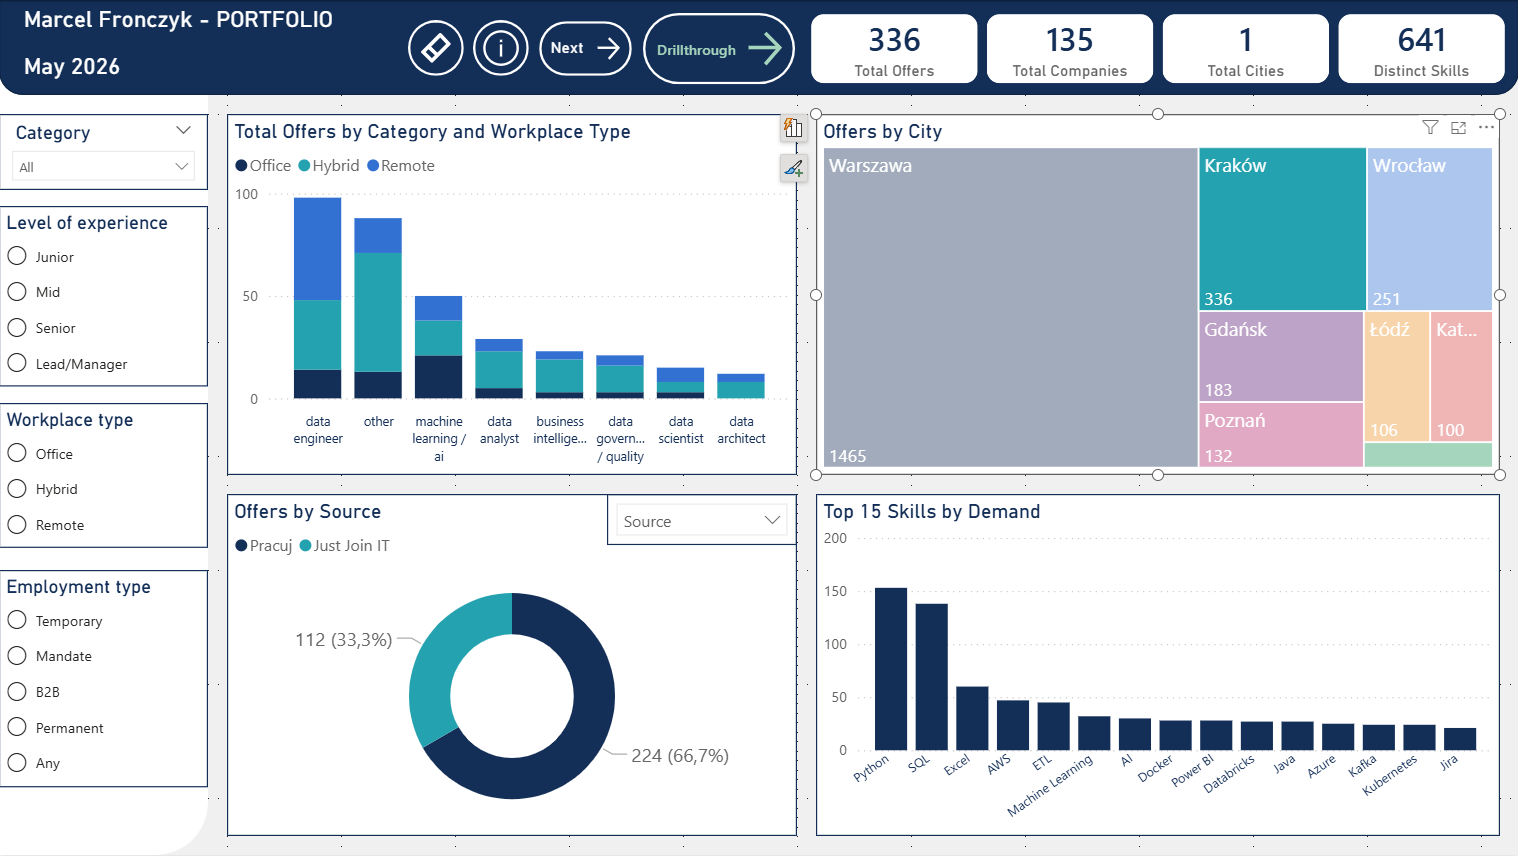

The dashboard page shown, as its layout file describes it:
{"tool":"powerbi","page":{"name":"Offers","canvas":[1280,720],"ordinal":0},"visuals":[{"type":"shape","title":"Slicer Tab","box":[0,0,176,720],"z":0},{"type":"shape","title":"Header","box":[0,0,1280,80],"z":1000},{"type":"textbox","box":[16,0,320,96],"z":2000},{"type":"columnChart","title":"Total Offers by Category and Workplace Type","fields":{"Y":["Offers.Offers Total"],"Category":["Offers.category"],"Series":["Offers.workplace_type"]},"box":[192,96,480,304],"z":3000},{"type":"donutChart","fields":{"Category":["Offers.Source"],"Y":["Offers.Offers Total"]},"box":[192,416,480,288],"z":4000},{"type":"columnChart","title":"Top 15 Skills by Demand","fields":{"Y":["OfferSkills.Skill demand"],"Category":["OfferSkills.skills"]},"box":[688,416,576,288],"z":5000},{"type":"listSlicer","title":"Level of experience","fields":{"Values":["Offers.experience_level"]},"box":[0,173.7,176,152],"z":6000},{"type":"listSlicer","title":"Workplace type","fields":{"Values":["Offers.workplace_type"]},"box":[0,339.3,176,122],"z":7000},{"type":"treemap","title":"Offers by City","fields":{"Group":["Offers.city"],"Values":["Offers.Offers Total"]},"box":[688,96,576,304],"z":8000},{"type":"slicer","title":"Category Slicer","fields":{"Values":["Offers.category"]},"box":[0,96,176,64],"z":9000},{"type":"listSlicer","title":"Employment type","fields":{"Values":["Offers.employment_type"]},"box":[0,480,176,183],"z":10000},{"type":"cardVisual","title":"KPIs","fields":{"Data":["Offers.Total Offers","Offers.Total Companies","Offers.Total Cities","OfferSkills.Skills Distinct Count"]},"box":[672,0,608,82],"z":11000},{"type":"slicer","fields":{"Values":["_donut Dimension._donut Dimension"]},"box":[512,416,160,43],"z":12000},{"type":"actionButton","title":"Reset Slicers","box":[344,17,47,47],"z":13000},{"type":"actionButton","title":"Drillthrough Button","box":[542,11,128,60],"z":14000},{"type":"actionButton","title":"Next Page","box":[454,17,80,48],"z":15000},{"type":"actionButton","title":"Expand Explanation","box":[399,17,47,47],"z":17000}]}

Visuals, with their boxes in screenshot pixels (x1, y1, x2, y2), scaled from the page's 1280x720 canvas onto the 1518x856 screenshot:
"Slicer Tab" shape: region(0, 0, 209, 855)
"Header" shape: region(0, 0, 1517, 95)
textbox: region(19, 0, 398, 114)
"Total Offers by Category and Workplace Type" columnChart: region(228, 114, 797, 476)
donutChart - Offers.Source x Offers.Offers Total: region(228, 495, 797, 837)
"Top 15 Skills by Demand" columnChart: region(816, 495, 1499, 837)
"Level of experience" listSlicer: region(0, 207, 209, 387)
"Workplace type" listSlicer: region(0, 403, 209, 548)
"Offers by City" treemap: region(816, 114, 1499, 476)
"Category Slicer" slicer: region(0, 114, 209, 190)
"Employment type" listSlicer: region(0, 571, 209, 788)
"KPIs" cardVisual: region(797, 0, 1517, 97)
slicer - _donut Dimension._donut Dimension: region(607, 495, 797, 546)
"Reset Slicers" actionButton: region(408, 20, 464, 76)
"Drillthrough Button" actionButton: region(643, 13, 795, 84)
"Next Page" actionButton: region(538, 20, 633, 77)
"Expand Explanation" actionButton: region(473, 20, 529, 76)
